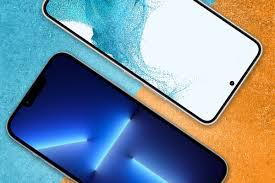Smartphone: (1, 56, 240, 183), (42, 0, 267, 122)
